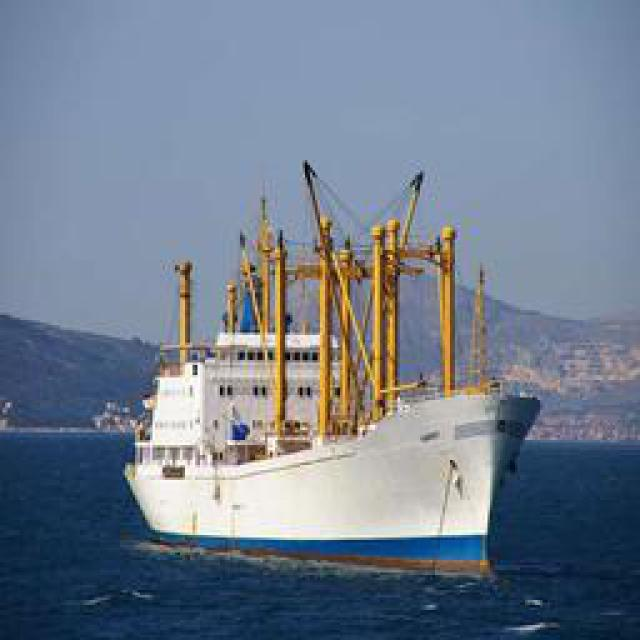Ship: (127, 155, 540, 568)
